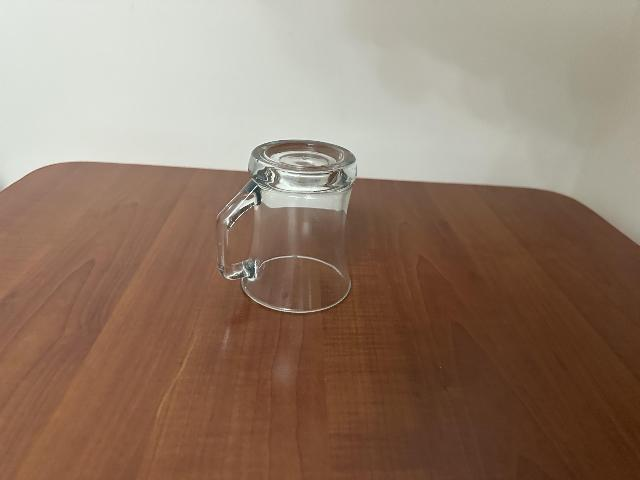Cam: (213, 129, 362, 314)
